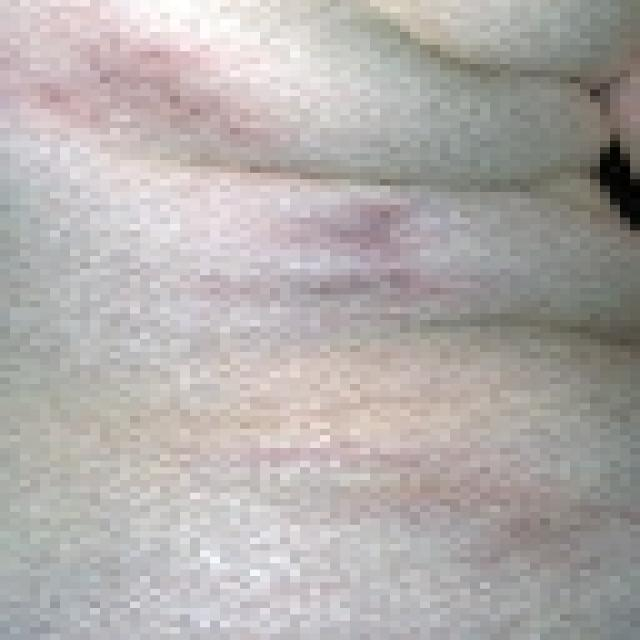lupus: (22, 17, 626, 589)
